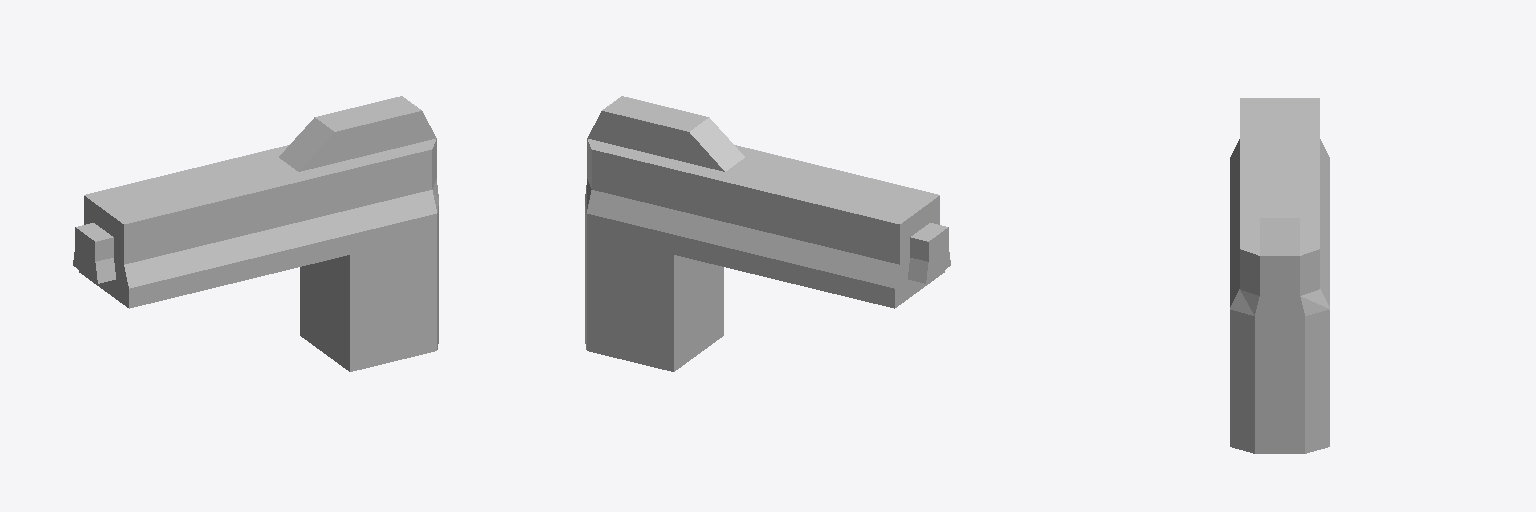
The model's file is gun.obj.
3 views of the same model, side by side, from view 1: azimuth 30°, elevation 25°; view 2: azimuth 150°, elevation 25°; view 3: azimuth 270°, elevation 25° (orthographic).
Visible parts, largest first — view 1: Cube; view 2: Cube; view 3: Cube.
Boxes of the visible parts, <box> form: Cube: <box>73,96,438,371</box>; Cube: <box>585,96,950,371</box>; Cube: <box>1230,98,1329,453</box>.
Size of the model in its own units: 7.81 by 5.01 by 2.